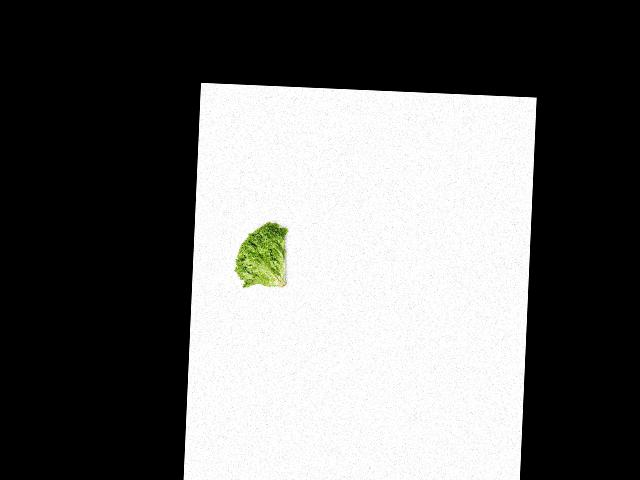lettuce: (230, 217, 295, 292)
